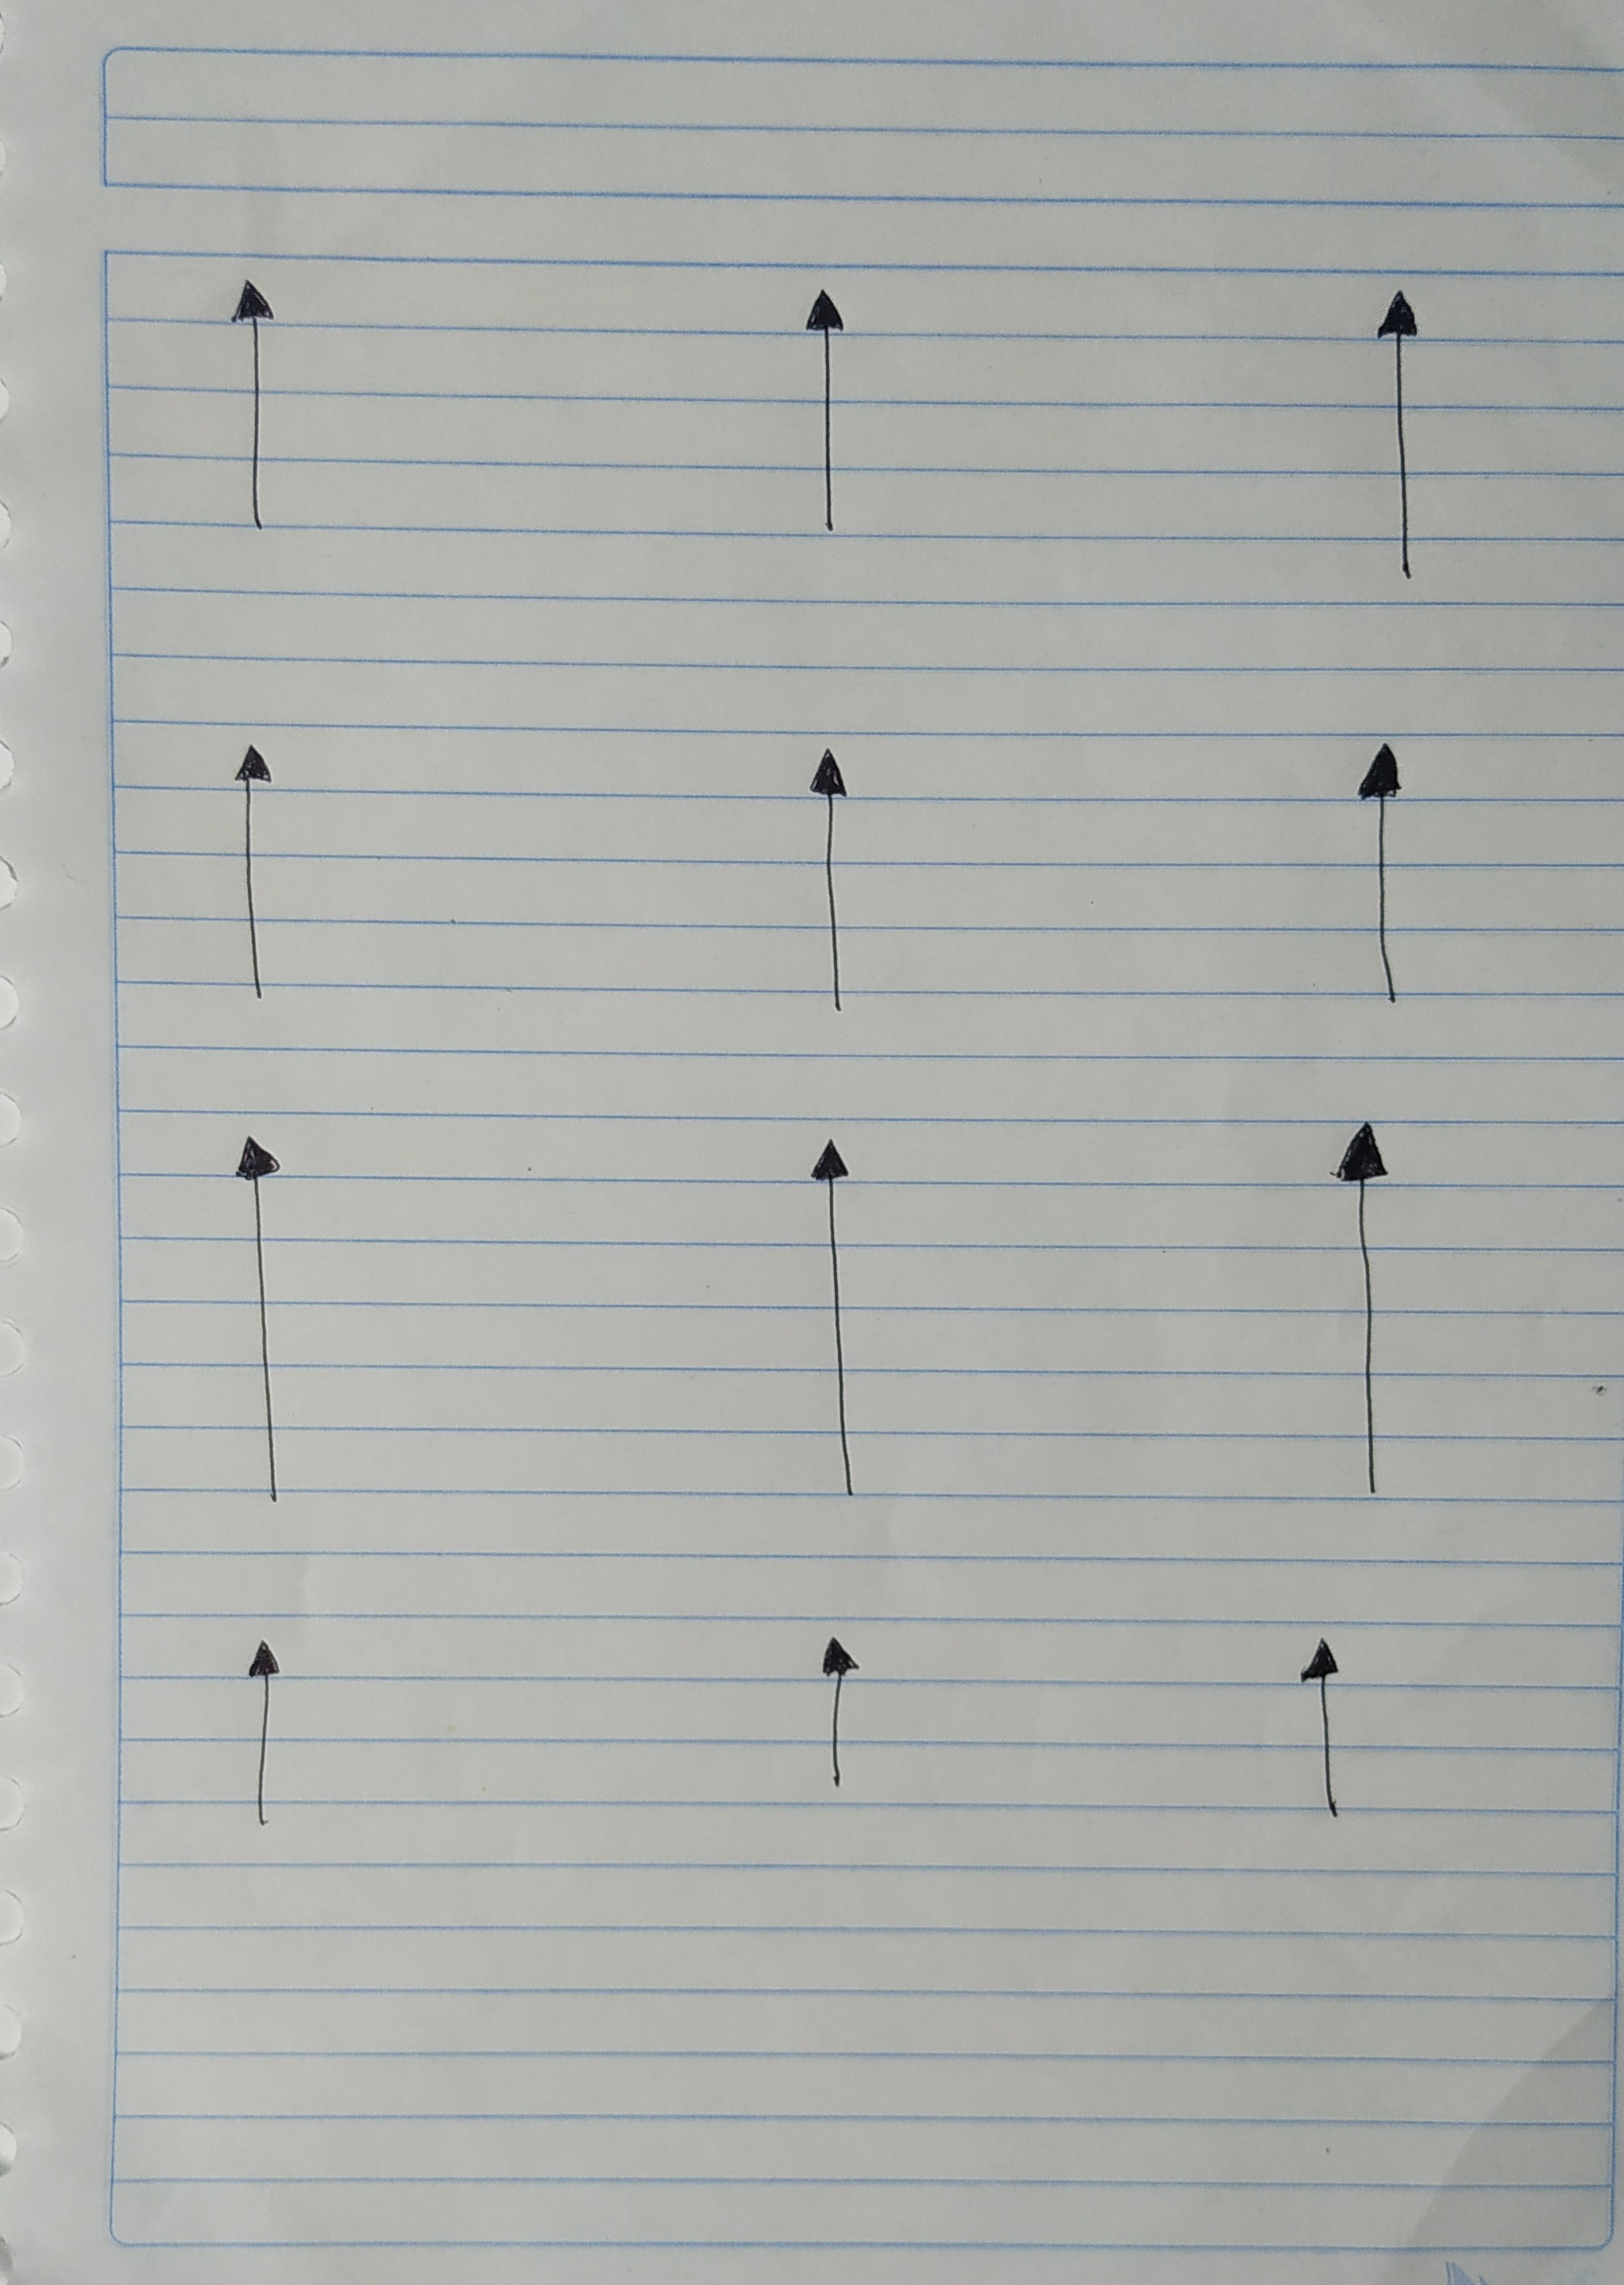arrow_line_up: (1330, 1121, 1410, 1506), (225, 1128, 301, 1513), (803, 1134, 870, 1506), (1346, 740, 1418, 1011), (801, 740, 866, 1028), (1376, 281, 1429, 592), (225, 267, 279, 531), (798, 285, 852, 538), (230, 733, 281, 995), (243, 1633, 294, 1837), (1295, 1631, 1345, 1837), (810, 1622, 859, 1798)
